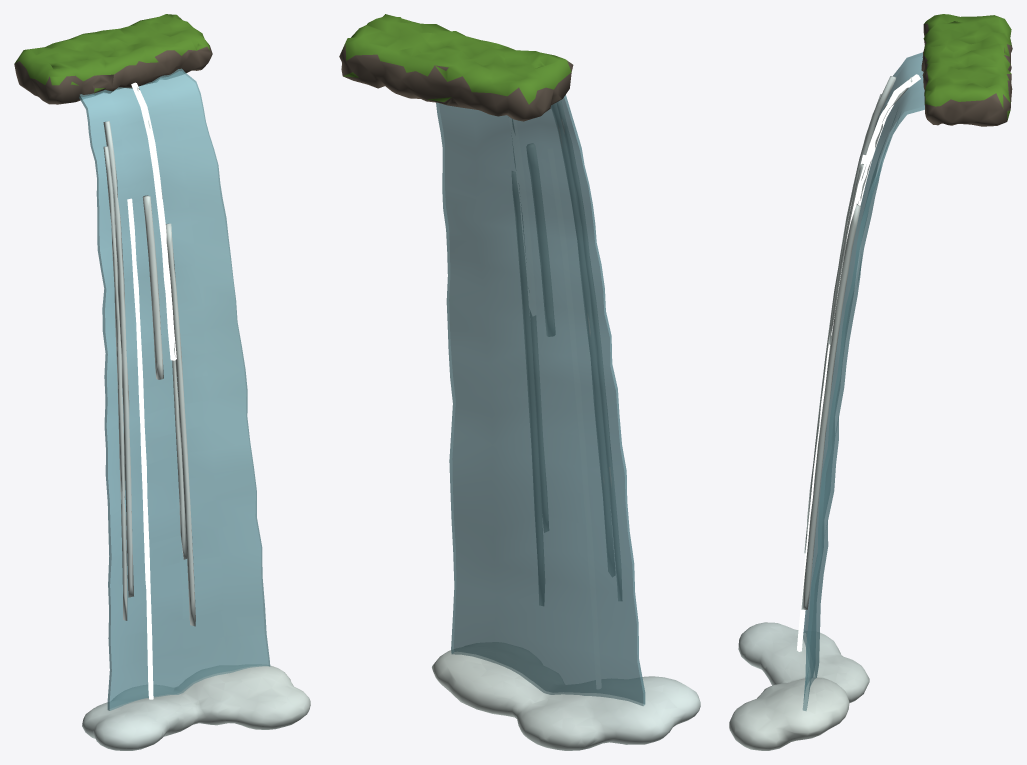
The model's file is glade_waterfall.glb.
3 renders of one model, left to right at view 1: azimuth 30°, elevation 25°; view 2: azimuth 150°, elevation 25°; view 3: azimuth 270°, elevation 25°, orthographic. The views are drawn at different scales.
Visible parts, largest first — view 1: glade_waterfall; view 2: glade_waterfall; view 3: glade_waterfall.
Part boxes in pixels (x1=…): glade_waterfall: x1=14, y1=14, x2=310, y2=750; glade_waterfall: x1=339, y1=14, x2=700, y2=750; glade_waterfall: x1=729, y1=14, x2=1012, y2=750.
Size of the model in its own units: 5.14 by 14.96 by 5.81.
